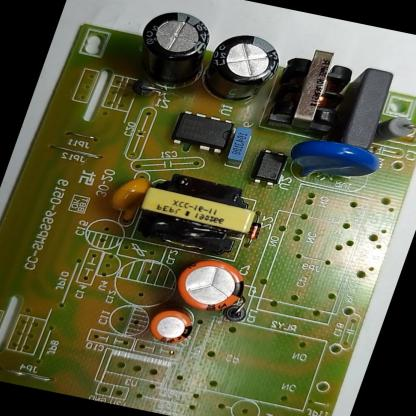Cap1: (169, 254, 250, 317)
Cap2: (144, 306, 199, 348)
Cap3: (198, 27, 287, 108)
Cap4: (125, 5, 218, 92)
MOSFET: (167, 107, 237, 155)
Mov: (281, 132, 388, 190)
Resistor: (372, 111, 416, 149)
Transformer: (128, 168, 262, 258), (265, 45, 365, 141)
